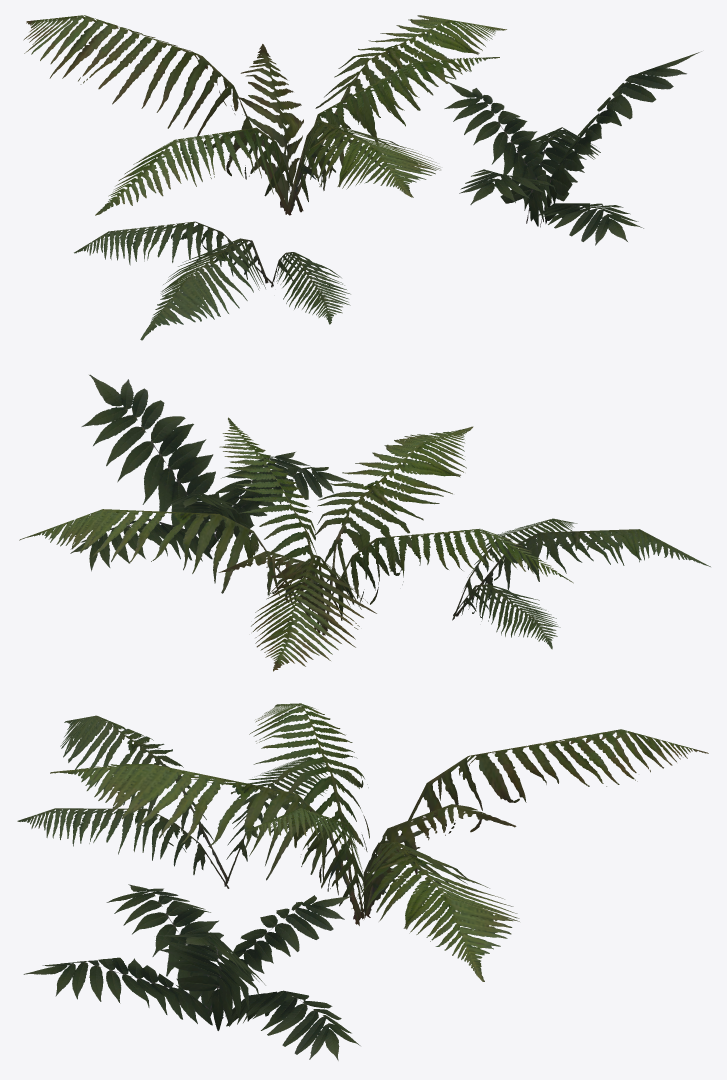
Rendered from prop_fernbb.FBX.
3 renders of one model, top to bottom at view 1: azimuth 30°, elevation 25°; view 2: azimuth 150°, elevation 25°; view 3: azimuth 270°, elevation 25°, orthographic. The views are drawn at different scales.
Parts seen in each view (by area): view 1: prop_fernbb; view 2: prop_fernbb; view 3: prop_fernbb.
Boxes of the visible parts, x1,y1,x2,y2 form: prop_fernbb: (23,15,701,340); prop_fernbb: (19,374,710,671); prop_fernbb: (17,703,708,1060).
Bounding box in the file's own units: 1.93 × 1.7 × 0.5103.
Materials: 1 (1 with a texture image).
